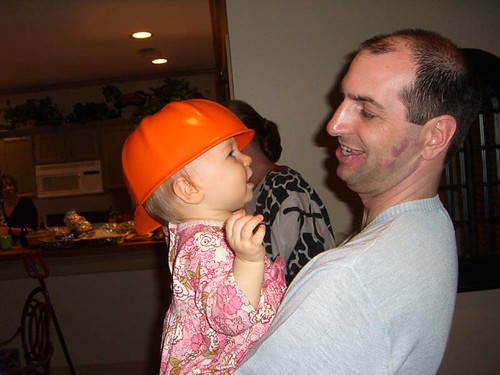person hardhat: (113, 99, 299, 371)
